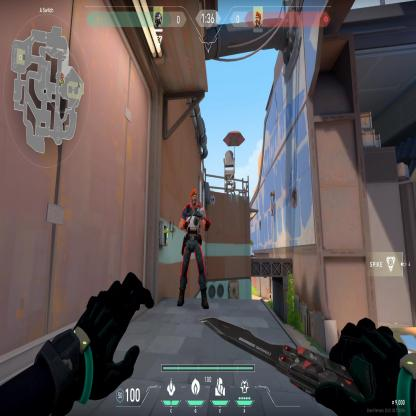enemy: (176, 186, 211, 310)
